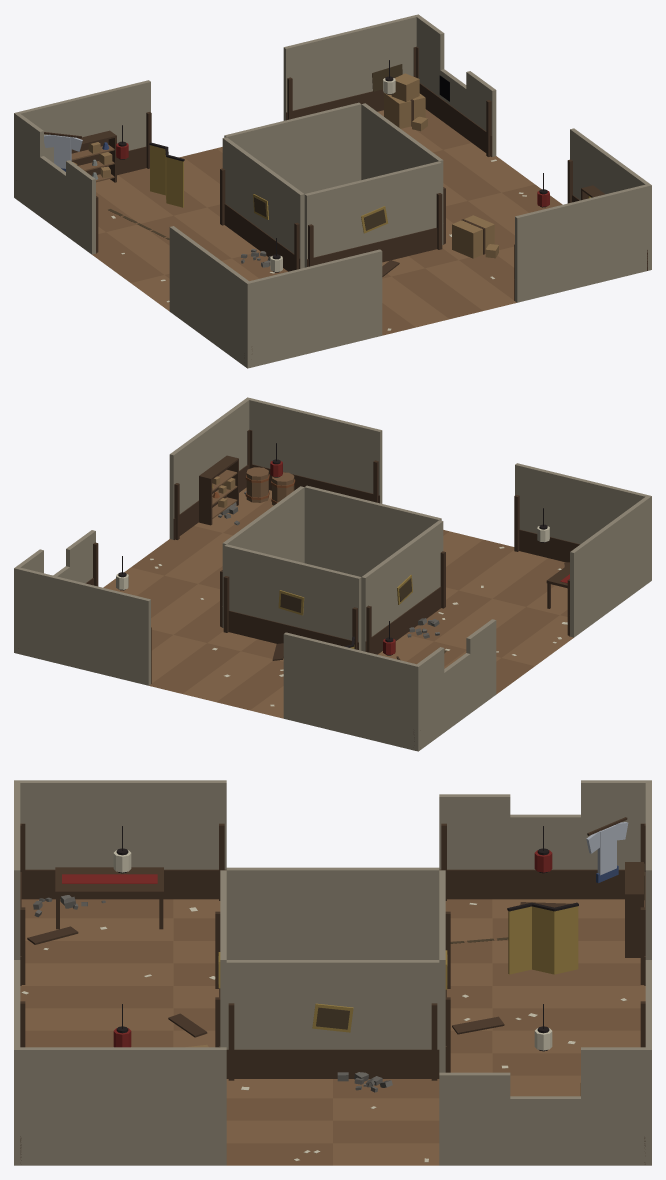
The picture shows the model from 3 angles, top to bottom: view 1: azimuth 30°, elevation 25°; view 2: azimuth 150°, elevation 25°; view 3: azimuth 270°, elevation 25°; orthographic projection. The views are drawn at different scales.
Parts seen in each view (by area): view 1: O_A, O_A_Deco; view 2: O_A, O_A_Deco; view 3: O_A, O_A_Deco.
Boxes of the visible parts, x1,y1,x2,y2 form: O_A: [14, 14, 651, 368]; O_A_Deco: [44, 46, 647, 330]; O_A: [14, 397, 651, 751]; O_A_Deco: [85, 429, 579, 750]; O_A: [14, 780, 651, 1165]; O_A_Deco: [20, 817, 645, 1164].
Bounding box in the file's own units: 2 × 2 × 0.4041.
